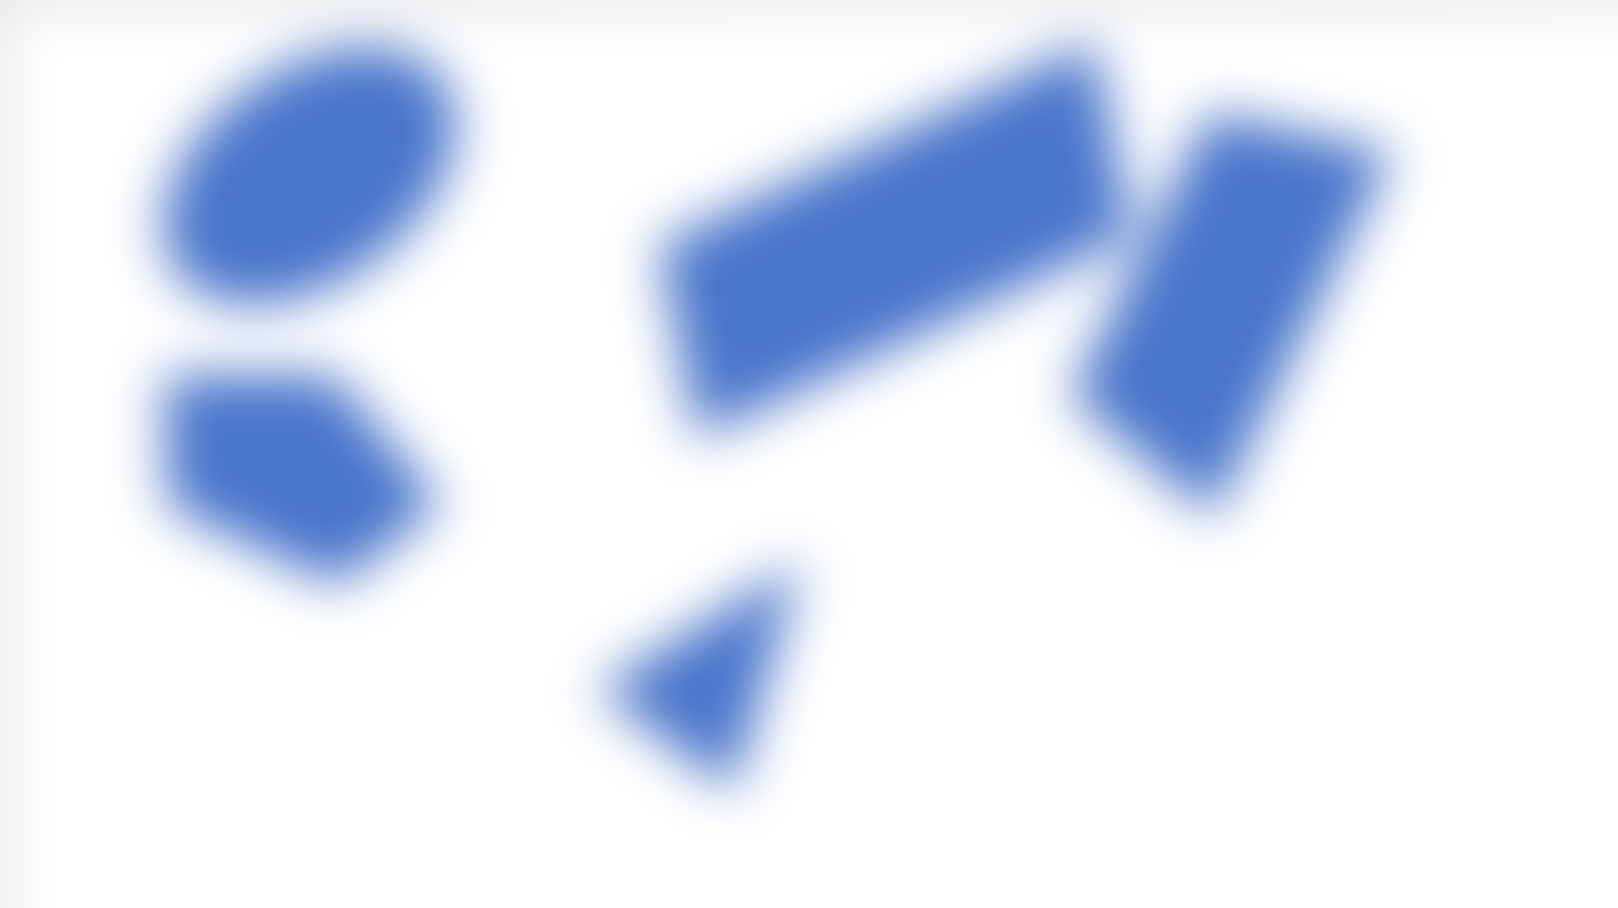circle: (154, 40, 480, 309)
parallelogram: (608, 50, 1149, 453)
pentagon: (146, 346, 463, 609)
trapezium: (1058, 91, 1392, 510)
triangle: (593, 550, 846, 778)
